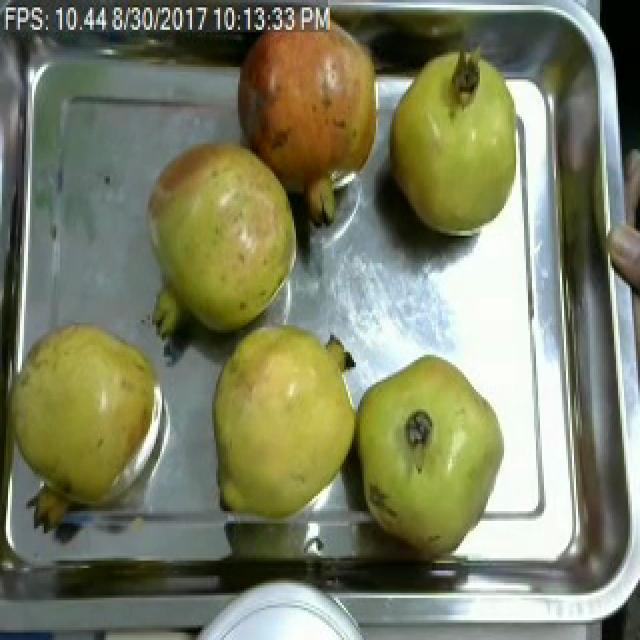fruit: (198, 305, 372, 551), (226, 0, 400, 243), (0, 305, 174, 531), (348, 342, 512, 563), (138, 129, 306, 342), (380, 29, 534, 250)
